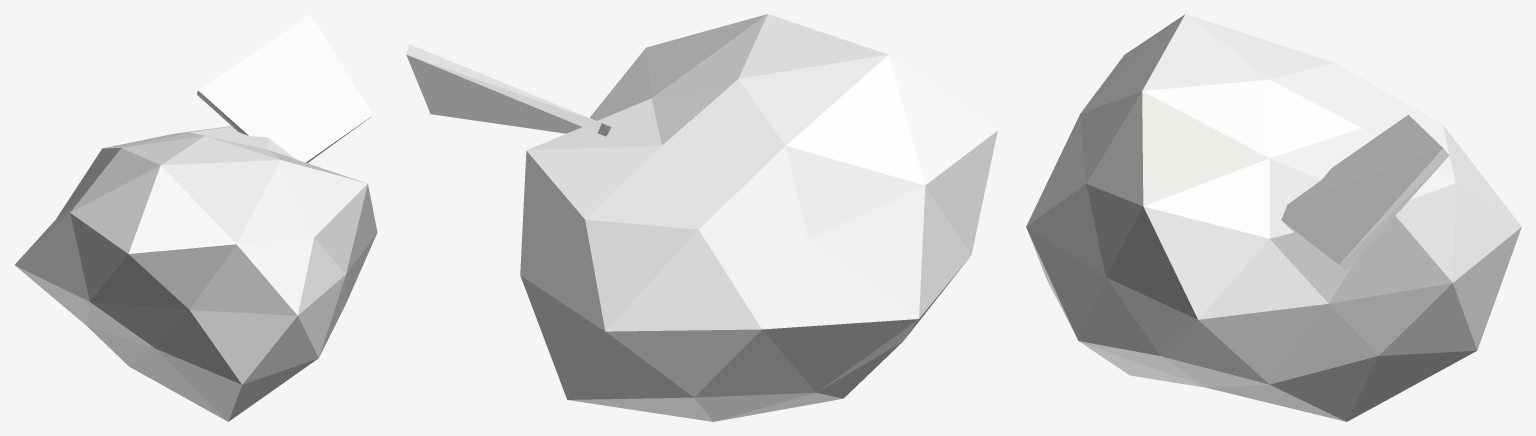
The model's file is Paper_CrumpledSheet.fbx.
3 views of the same model, side by side, from view 1: azimuth 30°, elevation 25°; view 2: azimuth 150°, elevation 25°; view 3: azimuth 270°, elevation 25° (orthographic). The views are drawn at different scales.
Visible parts, largest first — view 1: Paper_CrumpledSheet; view 2: Paper_CrumpledSheet; view 3: Paper_CrumpledSheet.
Boxes of the visible parts, x1,y1,x2,y2 form: Paper_CrumpledSheet: (15,14,377,421); Paper_CrumpledSheet: (406,14,997,421); Paper_CrumpledSheet: (1026,14,1521,421).
Size of the model in its own units: 68 by 49.69 by 62.64.
